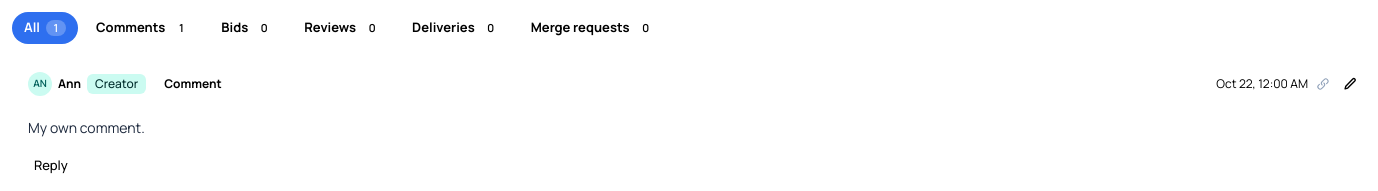
Scenario: comment actions (pencil) › closes on Escape and puts focus back on the pencil
Click the button named "Comment actions" at [1350, 84], box x1=1338 y1=72 x2=1362 y2=96
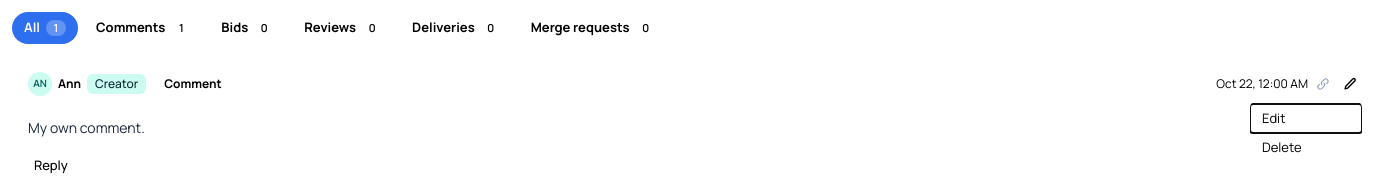
Press Escape
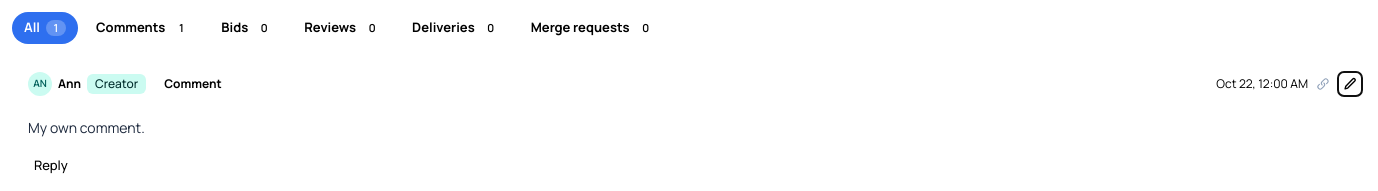
Expected: the button "Edit" is gone
